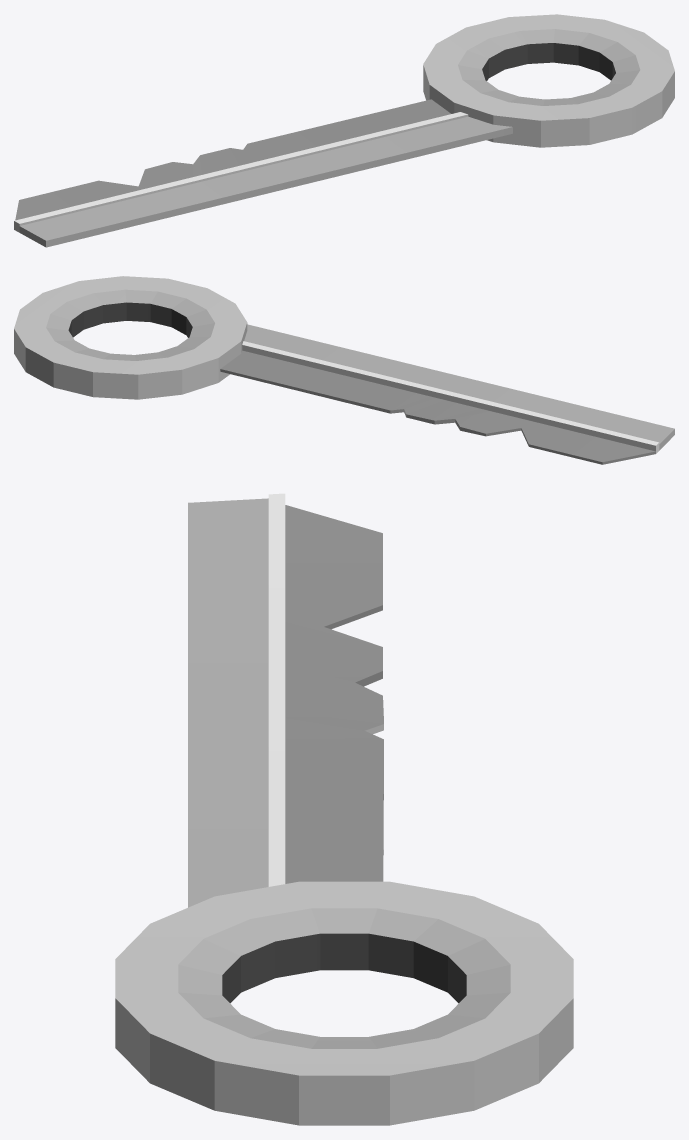
Rendered from KeyModel.fbx.
3 renders of one model, top to bottom at view 1: azimuth 30°, elevation 25°; view 2: azimuth 150°, elevation 25°; view 3: azimuth 270°, elevation 25°, orthographic. The views are drawn at different scales.
Parts seen in each view (by area): view 1: KeyModel; view 2: KeyModel; view 3: KeyModel.
Boxes of the visible parts, box(x1,y1,x2,y2) form: KeyModel: box(14, 14, 674, 247); KeyModel: box(14, 276, 674, 464); KeyModel: box(115, 493, 573, 1125).
Bounding box in the file's own units: 42.84 × 1.68 × 13.95.
